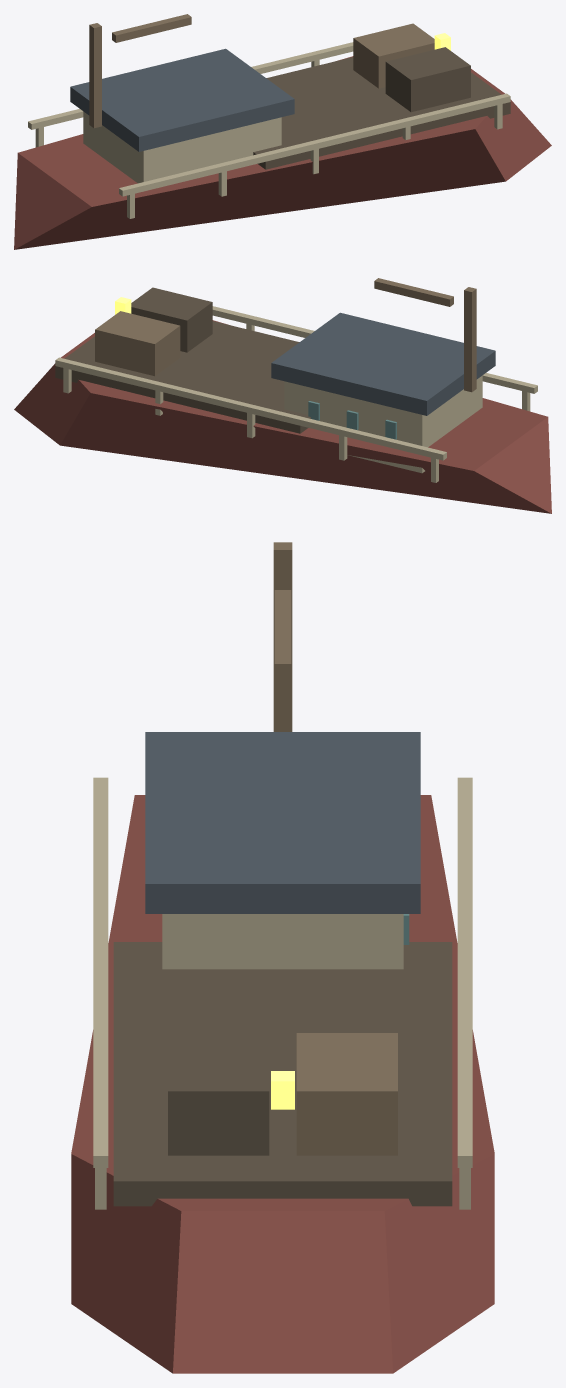
Rendered from fishing_longliner_crown_point.glb.
The picture shows the model from 3 angles, top to bottom: view 1: azimuth 30°, elevation 25°; view 2: azimuth 150°, elevation 25°; view 3: azimuth 270°, elevation 25°; orthographic projection. The views are drawn at different scales.
Visible parts, largest first — view 1: Fishing_Longliner_Crown_Point_faceted_hull, Wheelhouse_roof.010, Fishing_Longliner_Crown_Point_deck, Wheelhouse_cabin.010, Fishing_Longliner_Crown_Point_fish_crate.001, Fishing_Longliner_Crown_Point_rail_side.001, Fishing_Longliner_Crown_Point_fish_crate, Fishing_Longliner_Crown_Point_rail_side, Fishing_Longliner_Crown_Point_mast, Fishing_Longliner_Crown_Point_boom; view 2: Fishing_Longliner_Crown_Point_faceted_hull, Wheelhouse_roof.010, Fishing_Longliner_Crown_Point_deck, Wheelhouse_cabin.010, Fishing_Longliner_Crown_Point_fish_crate, Fishing_Longliner_Crown_Point_rail_side, Fishing_Longliner_Crown_Point_fish_crate.001, Fishing_Longliner_Crown_Point_rail_side.001, Fishing_Longliner_Crown_Point_mast, Fishing_Longliner_Crown_Point_boom; view 3: Fishing_Longliner_Crown_Point_faceted_hull, Fishing_Longliner_Crown_Point_deck, Wheelhouse_roof.010, Wheelhouse_cabin.010, Fishing_Longliner_Crown_Point_fish_crate, Fishing_Longliner_Crown_Point_fish_crate.001, Fishing_Longliner_Crown_Point_rail_side, Fishing_Longliner_Crown_Point_rail_side.001, Fishing_Longliner_Crown_Point_mast, Fishing_Longliner_Crown_Point_boom.
Part boxes in pixels (x1,y1,x2,y2): Fishing_Longliner_Crown_Point_faceted_hull: (14,56,551,249); Wheelhouse_roof.010: (70,48,294,151); Fishing_Longliner_Crown_Point_deck: (253,57,510,169); Wheelhouse_cabin.010: (83,111,281,183); Fishing_Longliner_Crown_Point_fish_crate.001: (385,47,470,112); Fishing_Longliner_Crown_Point_rail_side.001: (119,93,510,196); Fishing_Longliner_Crown_Point_fish_crate: (353,23,434,88); Fishing_Longliner_Crown_Point_rail_side: (28,42,353,129); Fishing_Longliner_Crown_Point_mast: (89,23,101,128); Fishing_Longliner_Crown_Point_boom: (112,14,191,42); Fishing_Longliner_Crown_Point_faceted_hull: (14,320,551,513); Wheelhouse_roof.010: (271,312,495,415); Fishing_Longliner_Crown_Point_deck: (55,321,310,437); Wheelhouse_cabin.010: (284,375,482,473); Fishing_Longliner_Crown_Point_fish_crate: (95,311,180,376); Fishing_Longliner_Crown_Point_rail_side: (55,357,446,460); Fishing_Longliner_Crown_Point_fish_crate.001: (131,287,212,352); Fishing_Longliner_Crown_Point_rail_side.001: (212,306,537,393); Fishing_Longliner_Crown_Point_mast: (464,287,476,392); Fishing_Longliner_Crown_Point_boom: (374,278,453,306); Fishing_Longliner_Crown_Point_faceted_hull: (71,795,494,1373); Fishing_Longliner_Crown_Point_deck: (113,942,452,1206); Wheelhouse_roof.010: (145,732,420,913); Wheelhouse_cabin.010: (162,914,403,969); Fishing_Longliner_Crown_Point_fish_crate: (296,1033,397,1155); Fishing_Longliner_Crown_Point_fish_crate.001: (168,1033,269,1155); Fishing_Longliner_Crown_Point_rail_side: (457,777,472,1167); Fishing_Longliner_Crown_Point_rail_side.001: (93,777,108,1167); Fishing_Longliner_Crown_Point_mast: (273,542,292,731); Fishing_Longliner_Crown_Point_boom: (274,590,291,678).
Size of the model in its own units: 6.4 by 2.45 by 2.3.
